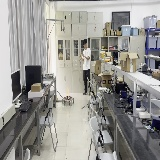fire: (64, 87, 69, 99)
